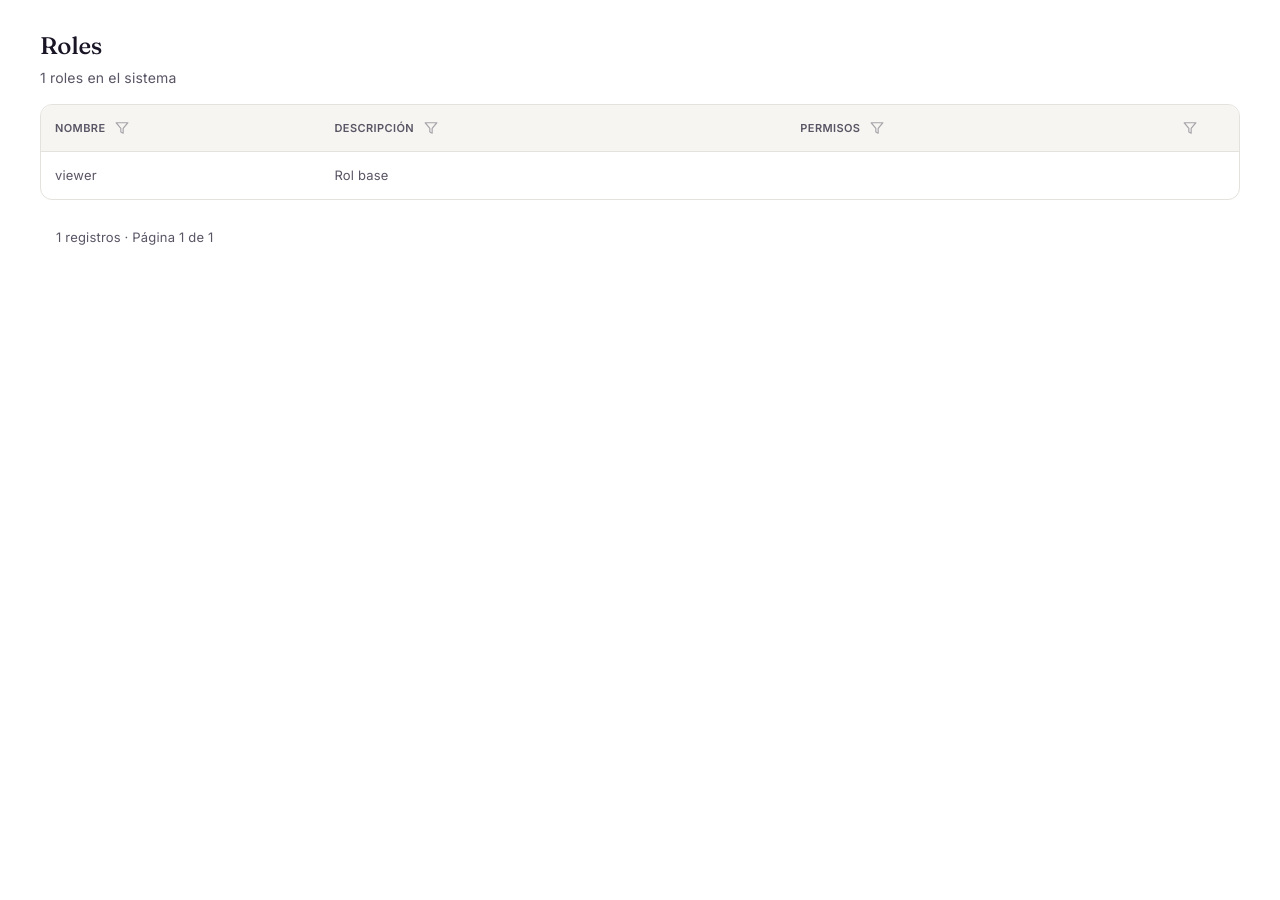
it: RolesPage — gating de /admin/permissions por privilegio y drawer abierto › no pide /admin/permissions ni al abrir el drawer si falta permissions.read
Click the text "viewer" at (76, 175), box [41,152,320,198]
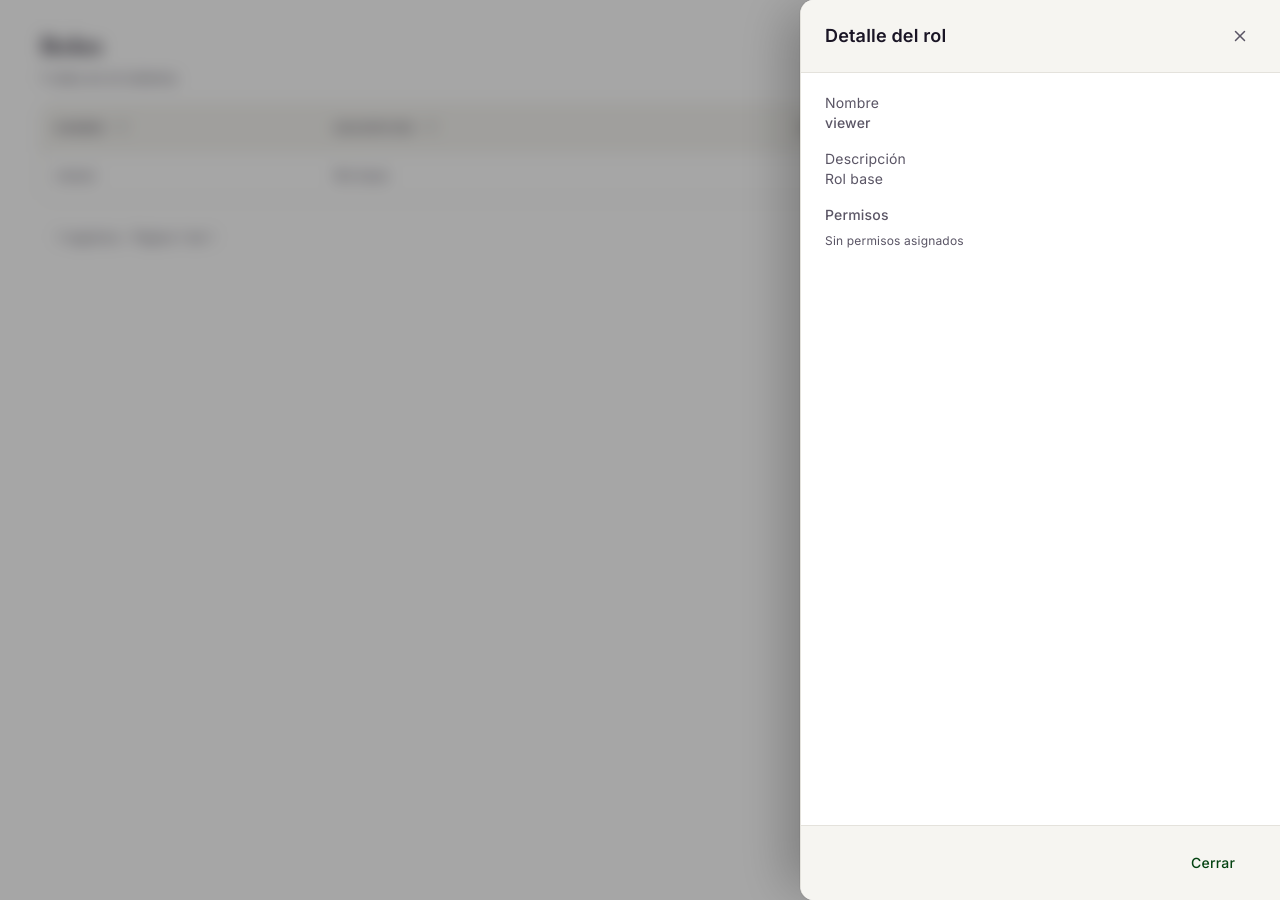
Result: the dialog is shown at [800,0,1279,899]
